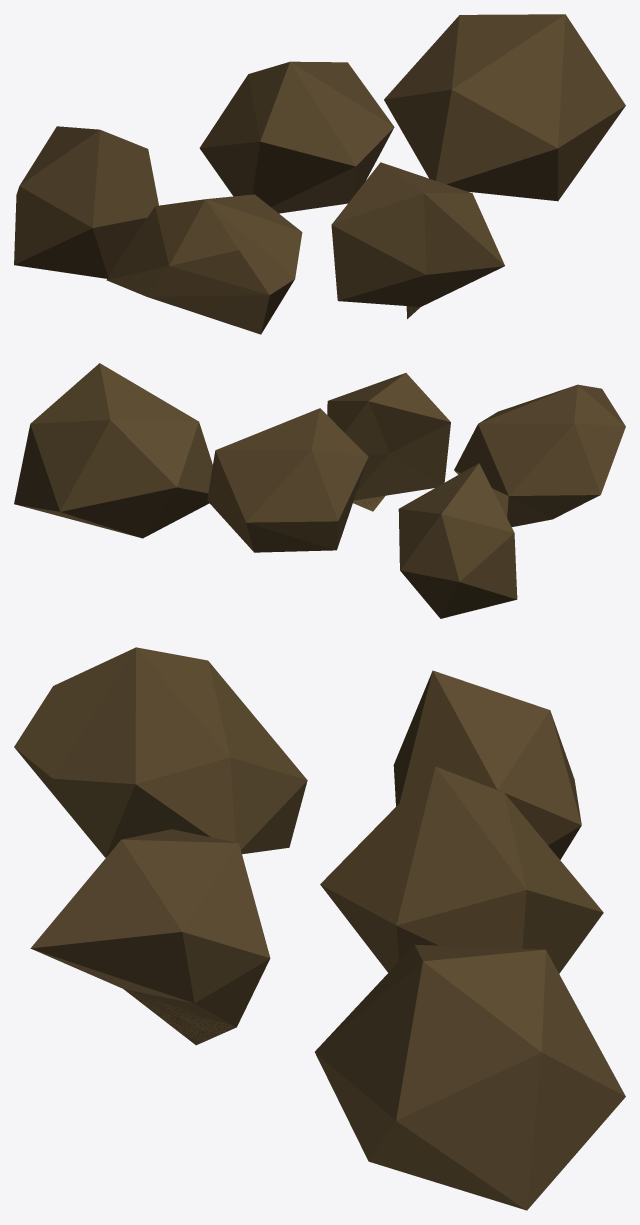
Rendered from Stone 1.fbx.
The picture shows the model from 3 angles, top to bottom: view 1: azimuth 30°, elevation 25°; view 2: azimuth 150°, elevation 25°; view 3: azimuth 270°, elevation 25°; orthographic projection. The views are drawn at different scales.
Parts seen in each view (by area): view 1: pPlatonic3, pPlatonic2, pPlatonic5, pPlatonic6, pPlatonic4; view 2: pPlatonic3, pPlatonic2, pPlatonic5, pPlatonic4, pPlatonic6; view 3: pPlatonic3, pPlatonic5, pPlatonic2, pPlatonic6, pPlatonic4.
Boxes of the visible parts, x1,y1,x2,y2 form: pPlatonic3: [384, 14, 625, 201]; pPlatonic2: [199, 61, 394, 213]; pPlatonic5: [106, 194, 302, 334]; pPlatonic6: [331, 162, 504, 318]; pPlatonic4: [14, 126, 158, 278]; pPlatonic3: [14, 363, 212, 538]; pPlatonic2: [207, 408, 368, 552]; pPlatonic5: [454, 384, 625, 526]; pPlatonic4: [398, 463, 517, 618]; pPlatonic6: [327, 373, 450, 511]; pPlatonic3: [315, 944, 625, 1210]; pPlatonic5: [14, 647, 307, 857]; pPlatonic2: [320, 766, 603, 973]; pPlatonic6: [30, 829, 270, 1045]; pPlatonic4: [393, 670, 581, 859].
Size of the model in its own units: 0.2026 by 0.0643 by 0.1362.
